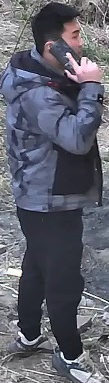phone: (22, 3, 105, 157)
